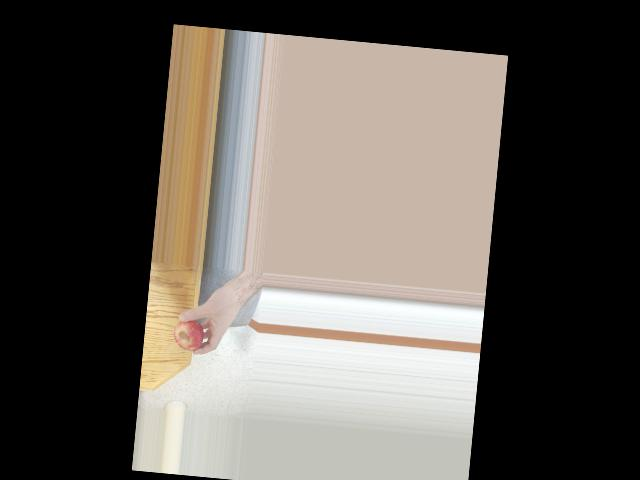apple: (173, 315, 208, 352)
